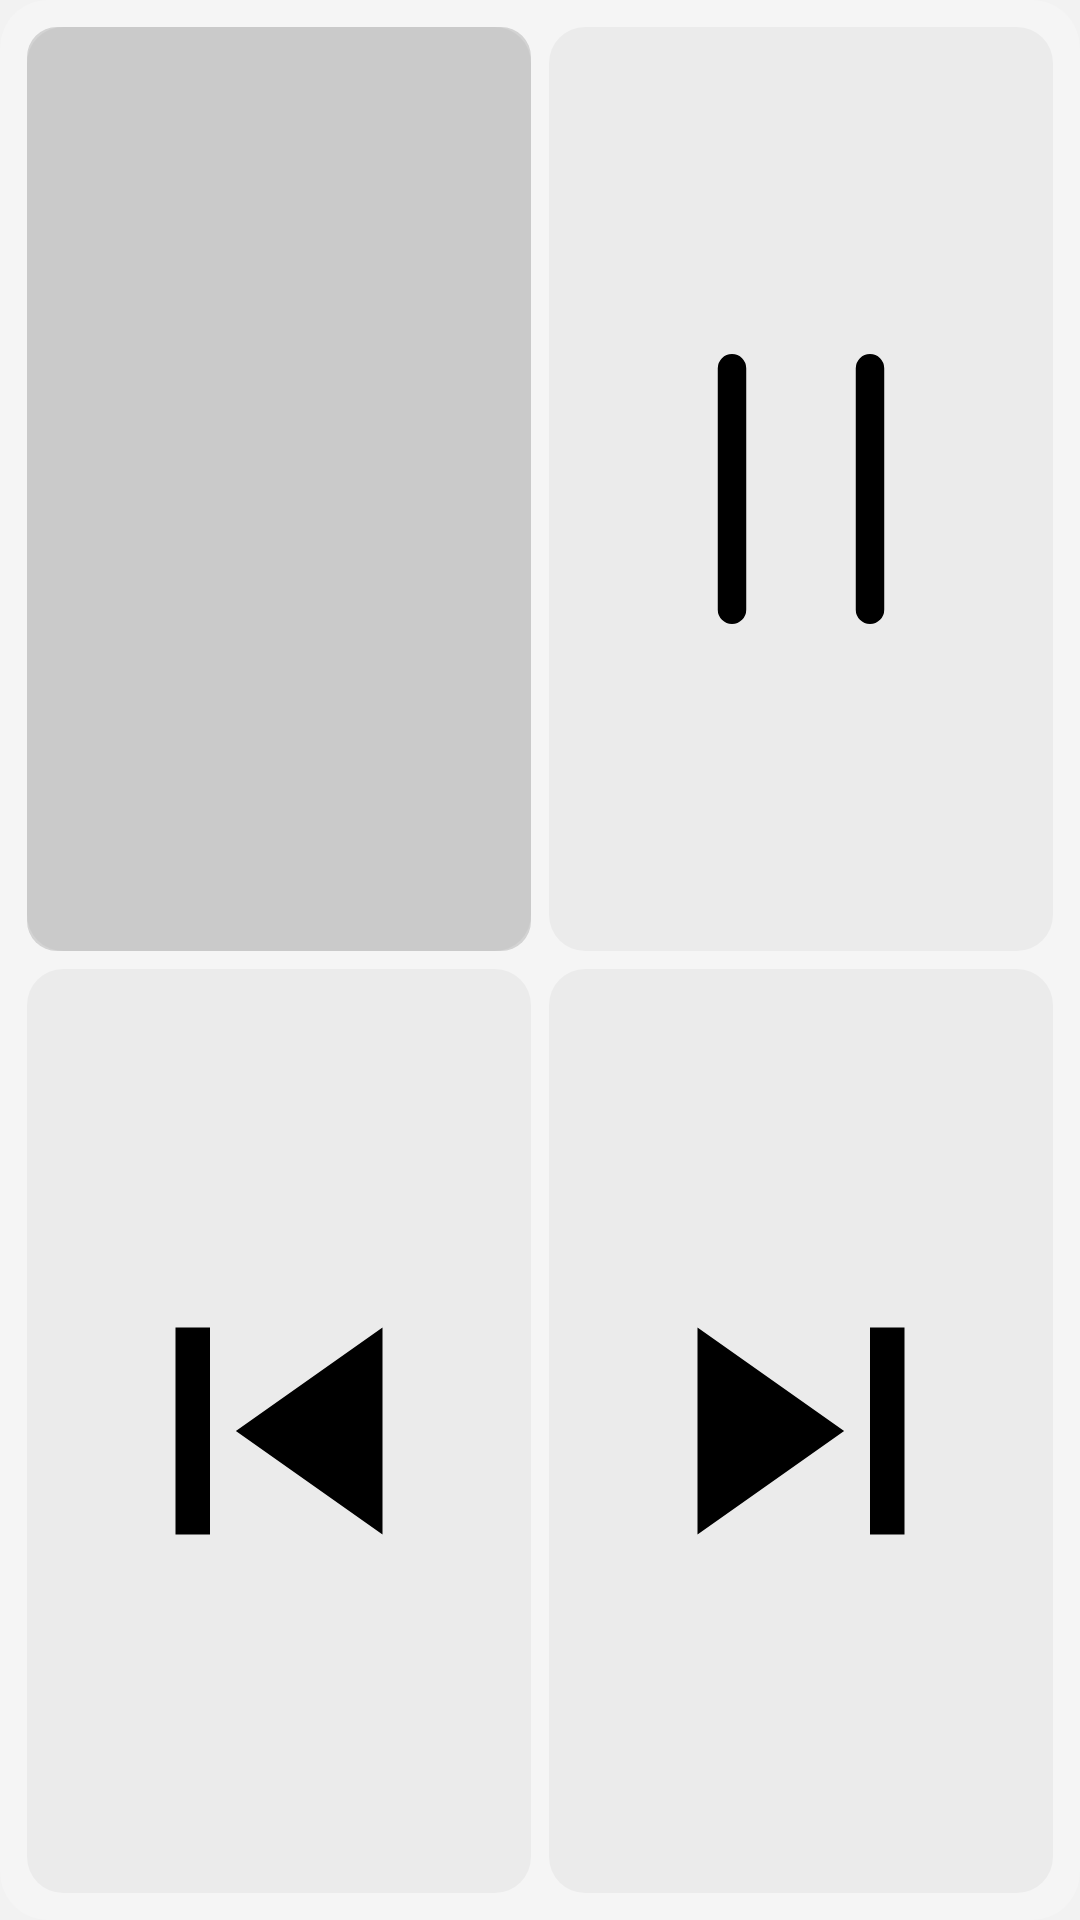

Where icons sit on this 1080x1920 app screen, as (x1, y1, x2, y2):
上一张: (175, 1327, 383, 1535)
下一张: (697, 1327, 905, 1535)
暂停或继续当前范围的自动切换: (717, 354, 885, 624)
